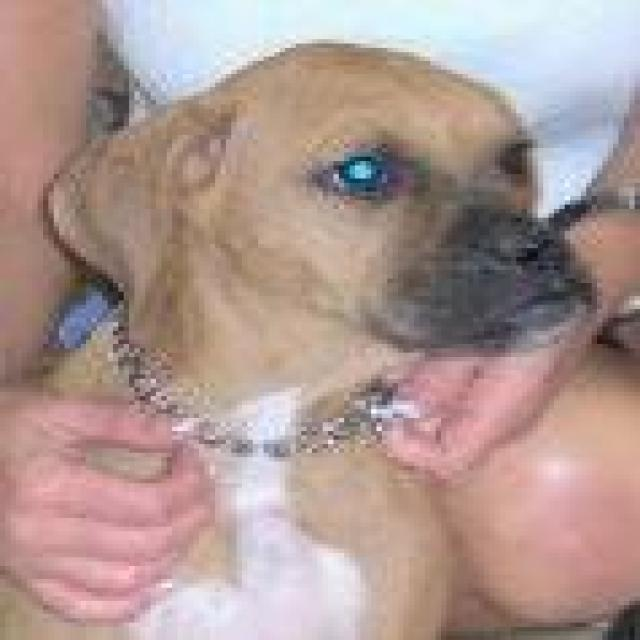Dog: (51, 20, 612, 377)
